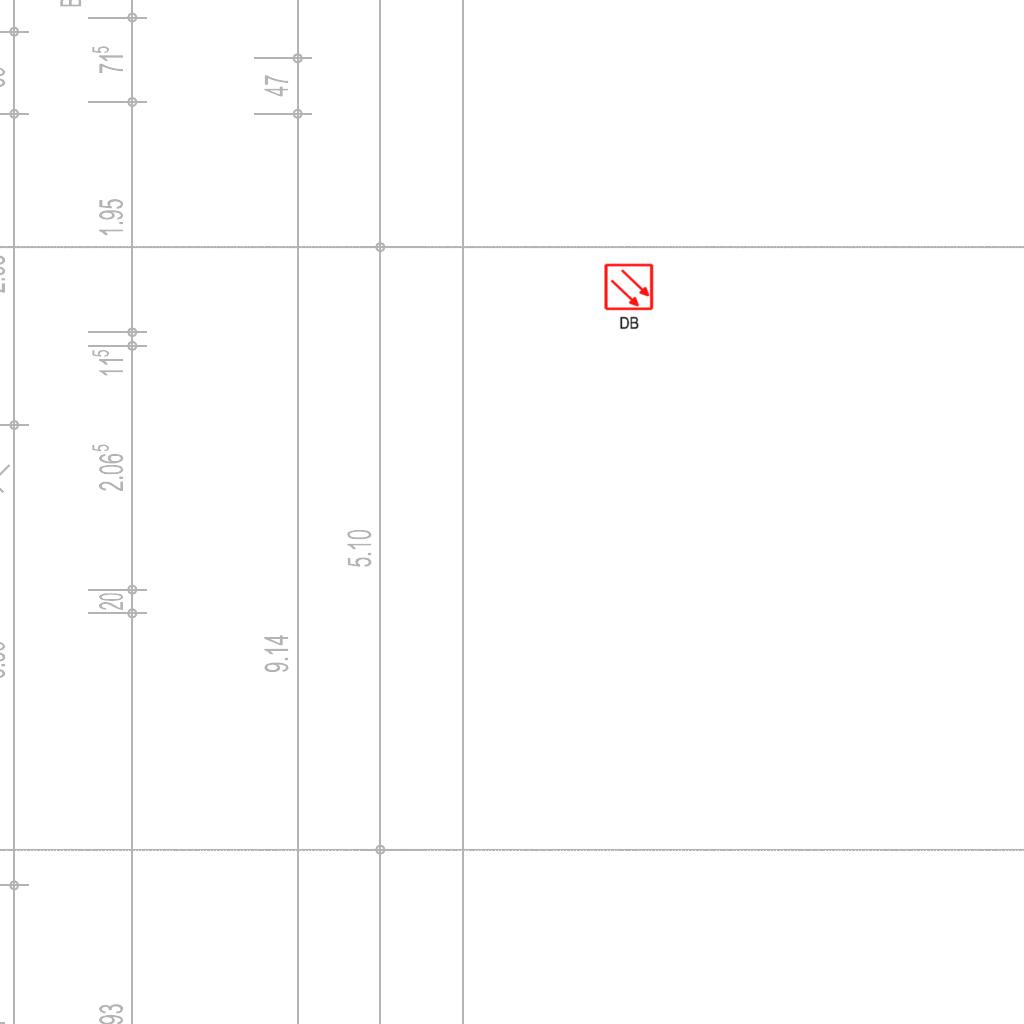DB_Melder_in_Doppelboden_mit_Revisionsoeffnung_mind_40_x_40_cm: (601, 260, 658, 334)
